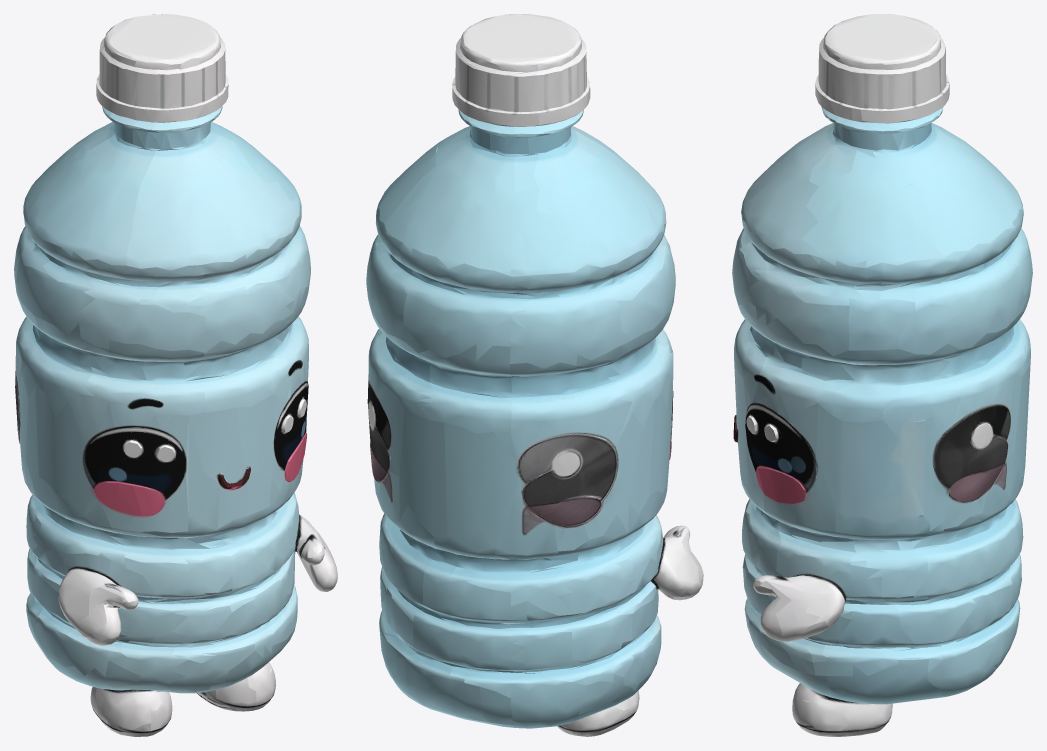
Rendered from PlasVox.fbx.
The picture shows the model from 3 angles, left to right: view 1: azimuth 30°, elevation 25°; view 2: azimuth 150°, elevation 25°; view 3: azimuth 270°, elevation 25°; orthographic projection. The views are drawn at different scales.
Parts seen in each view (by area): view 1: output_unwrapped; view 2: output_unwrapped; view 3: output_unwrapped.
Part boxes in pixels (x1,y1,x2,y2): output_unwrapped: (14,14,337,736); output_unwrapped: (366,14,703,736); output_unwrapped: (732,14,1032,736).
Size of the model in its own units: 41.64 by 100 by 41.08.
Materials: 1 (1 with a texture image).
